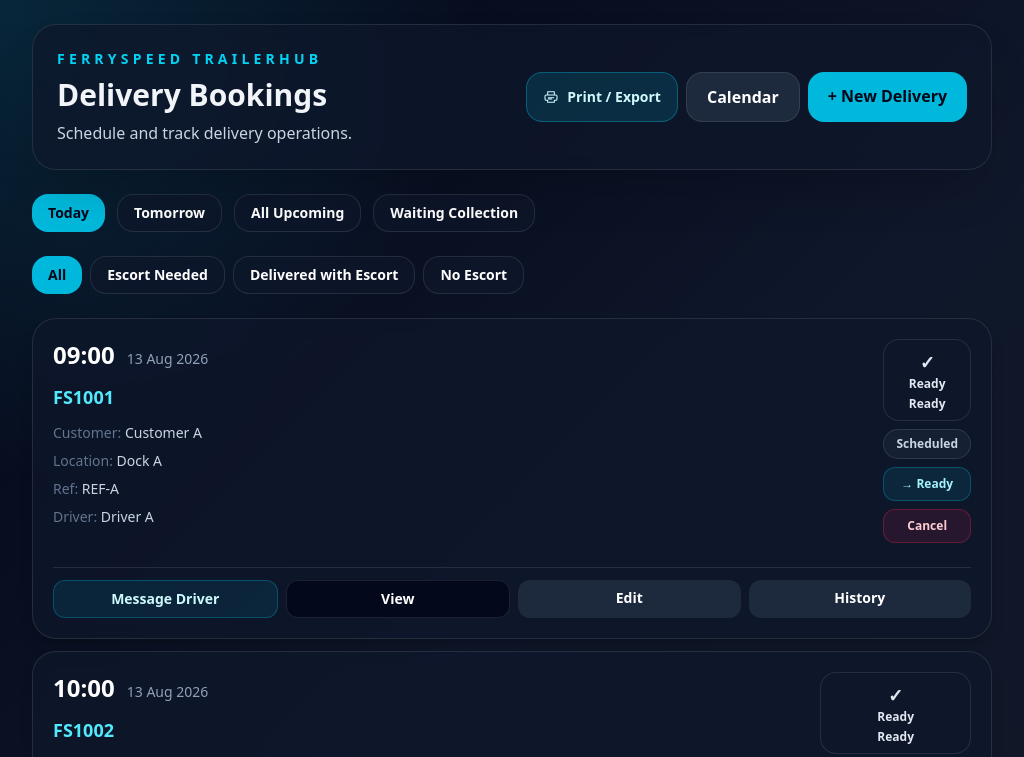
Scenario: DeliveriesPage › filters deliveries that need escort
Expected: the text "Driver A" is shown, x1=101 y1=507 x2=154 y2=526
Step 1. Click the button "Escort Needed" → (158, 275), box x1=90 y1=256 x2=225 y2=294
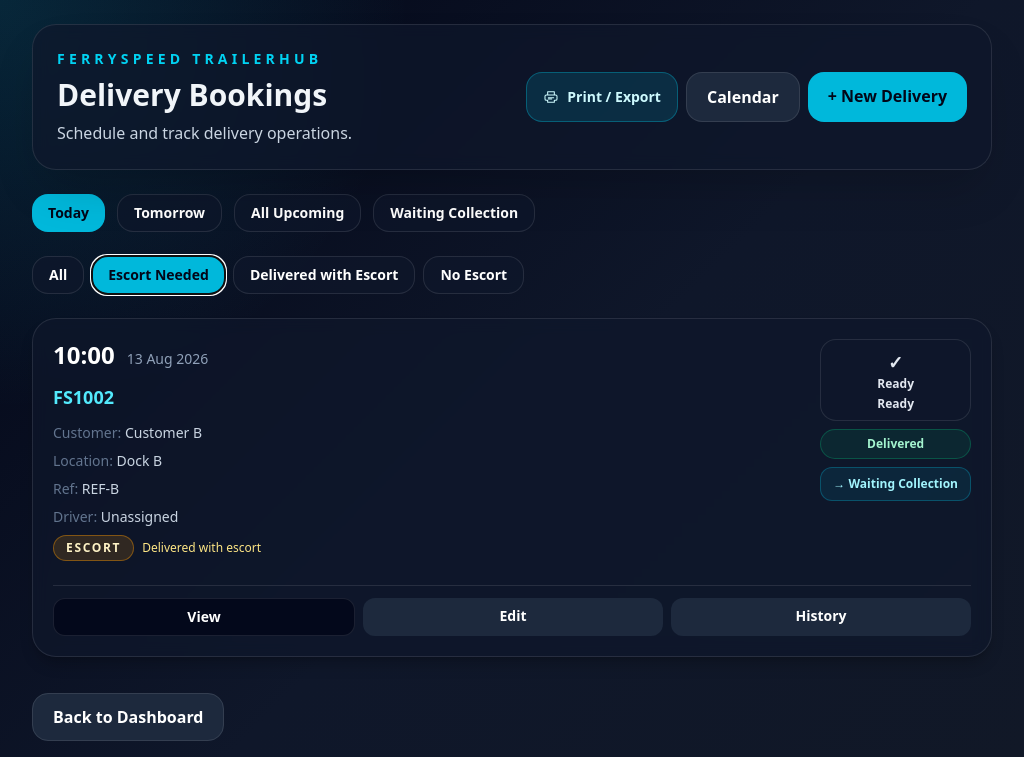
Expected: the text "FS1002" is shown, x1=53 y1=385 x2=114 y2=409
Now the text "FS1001" is gone
